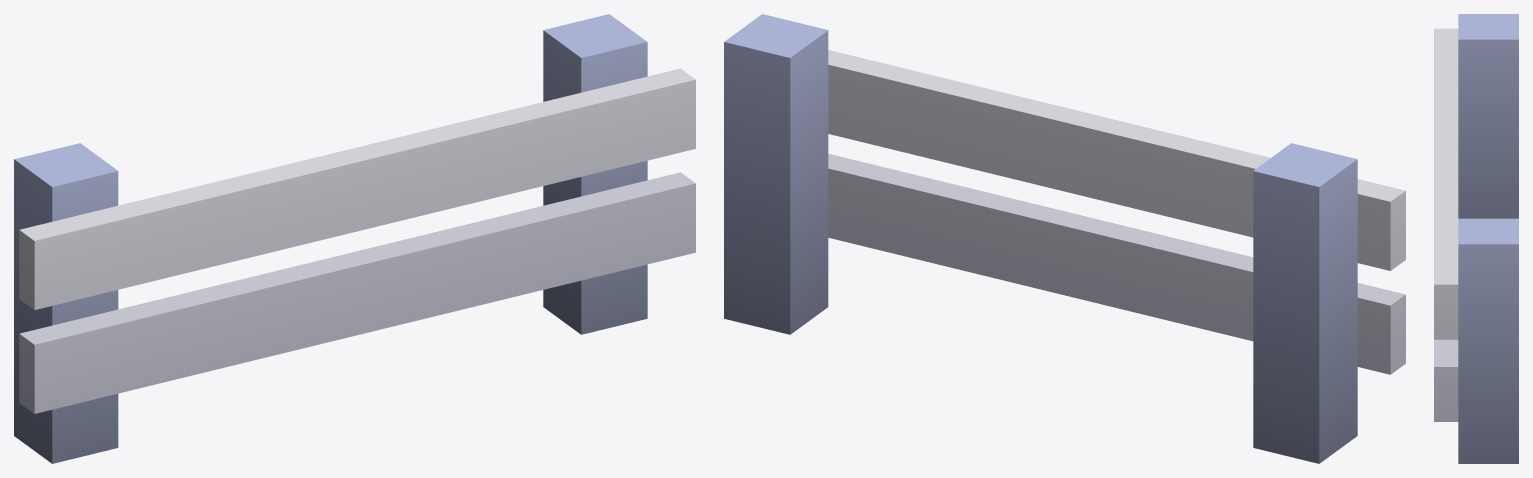
File: fence-straight.glb
The picture shows the model from 3 angles, left to right: view 1: azimuth 30°, elevation 25°; view 2: azimuth 150°, elevation 25°; view 3: azimuth 270°, elevation 25°; orthographic projection. The views are drawn at different scales.
Visible parts, largest first — view 1: fence-straight; view 2: fence-straight; view 3: fence-straight.
Part boxes in pixels (x1,y1,x2,y2): fence-straight: (14,14,695,463); fence-straight: (724,14,1405,463); fence-straight: (1434,14,1518,463).
Bounding box in the file's own units: 1 × 0.4 × 0.14.
